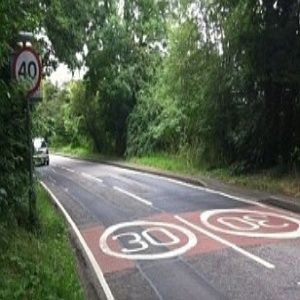40 speed: (13, 48, 41, 96)
